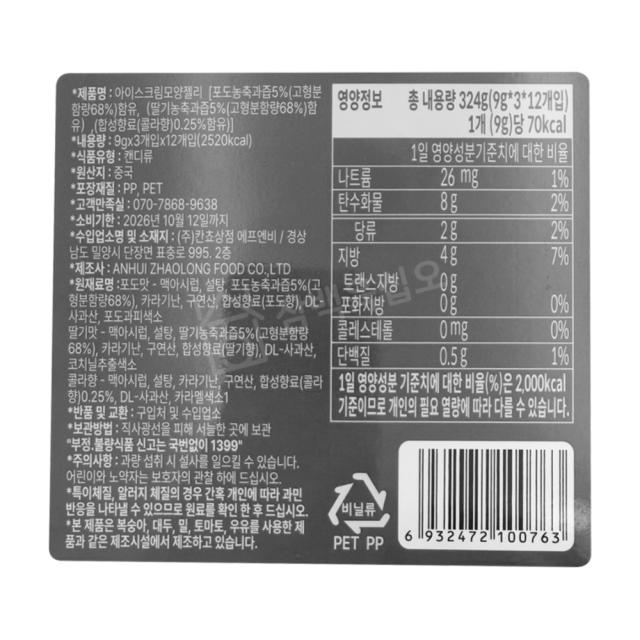Nutrition Label: (327, 57, 597, 445)
